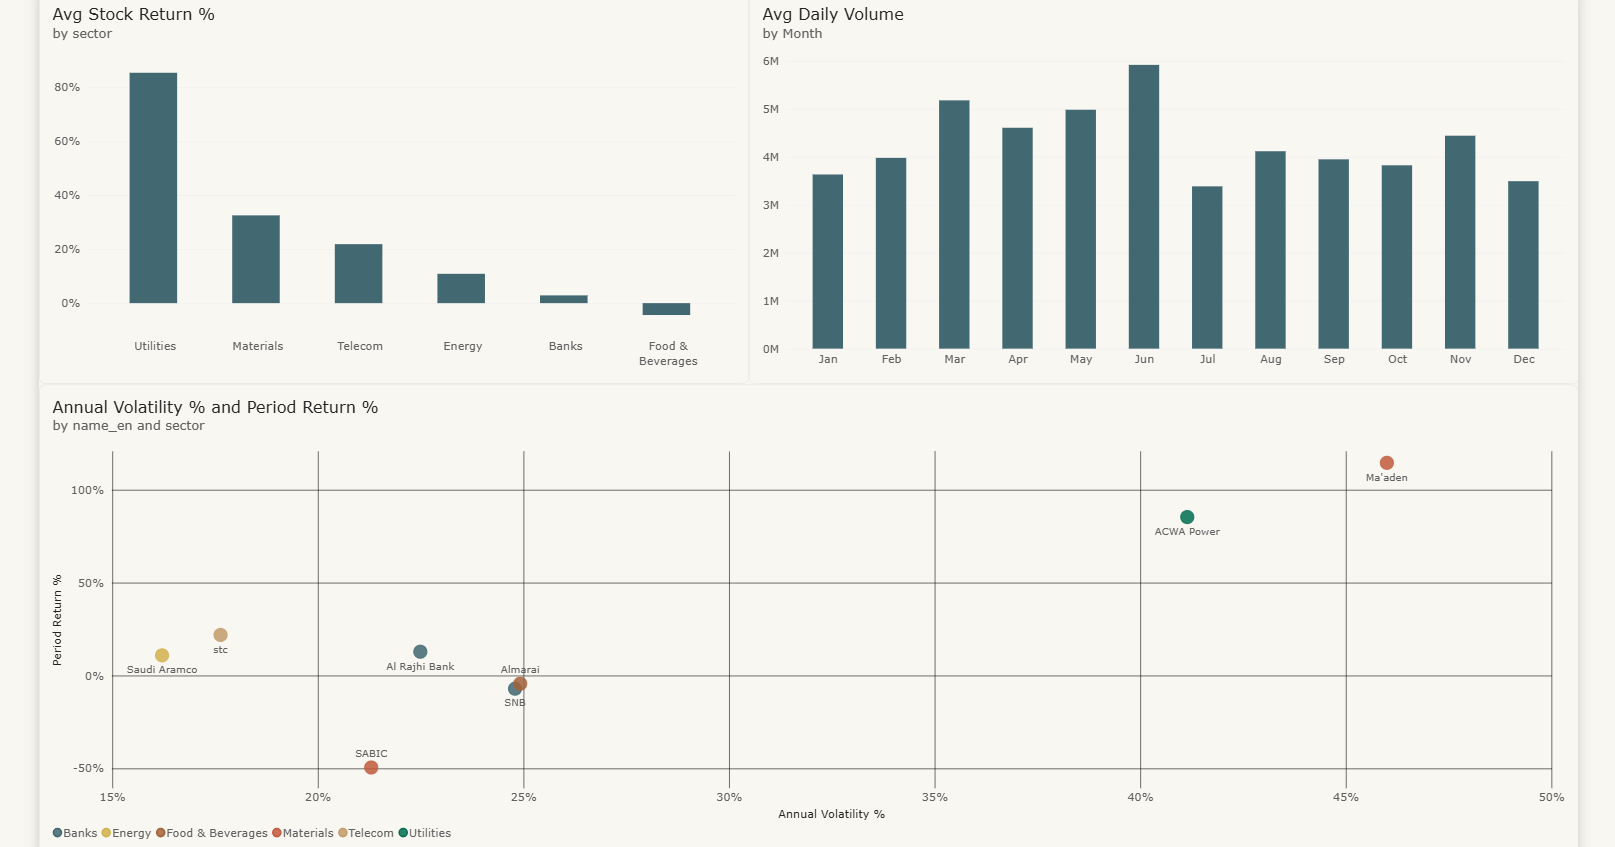

This screenshot's page, from the dashboard's own definition file:
{"tool":"powerbi","page":{"name":"Sector Comparison","canvas":[1920,1080],"ordinal":2},"visuals":[{"type":"clusteredColumnChart","fields":{"Category":["companies.sector"],"Y":["_Measures.Avg Stock Return %"]},"box":[0,0,885.2,488.9],"z":0},{"type":"scatterChart","fields":{"Category":["companies.name_en"],"Series":["companies.sector"],"X":["_Measures.Annual Volatility %"],"Y":["_Measures.Period Return %"]},"box":[0,488.9,1920.4,590.7],"z":1},{"type":"columnChart","fields":{"Category":["Date.Month"],"Y":["_Measures.Avg Daily Volume"]},"box":[885,0,1035,489],"z":2}]}

Visuals, with their boxes on the page's 1920x1080 design canvas (x1, y1, x2, y2). These are canvas units, not pixel positions in the 1615x847 screenshot, which may show the page scaled, cropped or inside an application window:
clusteredColumnChart - companies.sector x _Measures.Avg Stock Return %: (left=0, top=0, right=885, bottom=489)
scatterChart - companies.name_en x companies.sector: (left=0, top=489, right=1920, bottom=1080)
columnChart - Date.Month x _Measures.Avg Daily Volume: (left=885, top=0, right=1920, bottom=489)
